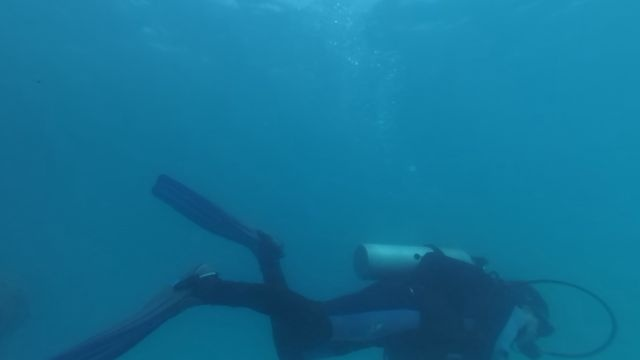Diver: (55, 159, 618, 358)
